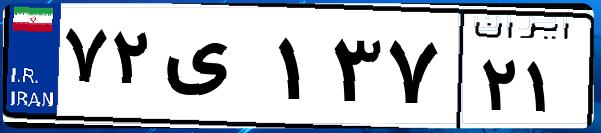1: (270, 28, 330, 110), (525, 38, 570, 115)
2: (475, 38, 525, 113), (110, 28, 158, 98)
3: (330, 28, 385, 110)
7: (385, 28, 445, 110), (57, 26, 110, 100)
ی: (158, 20, 270, 120)
